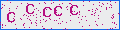C: (70, 5, 78, 15), (54, 6, 62, 16), (43, 7, 51, 17), (26, 4, 34, 14), (7, 12, 15, 22)
